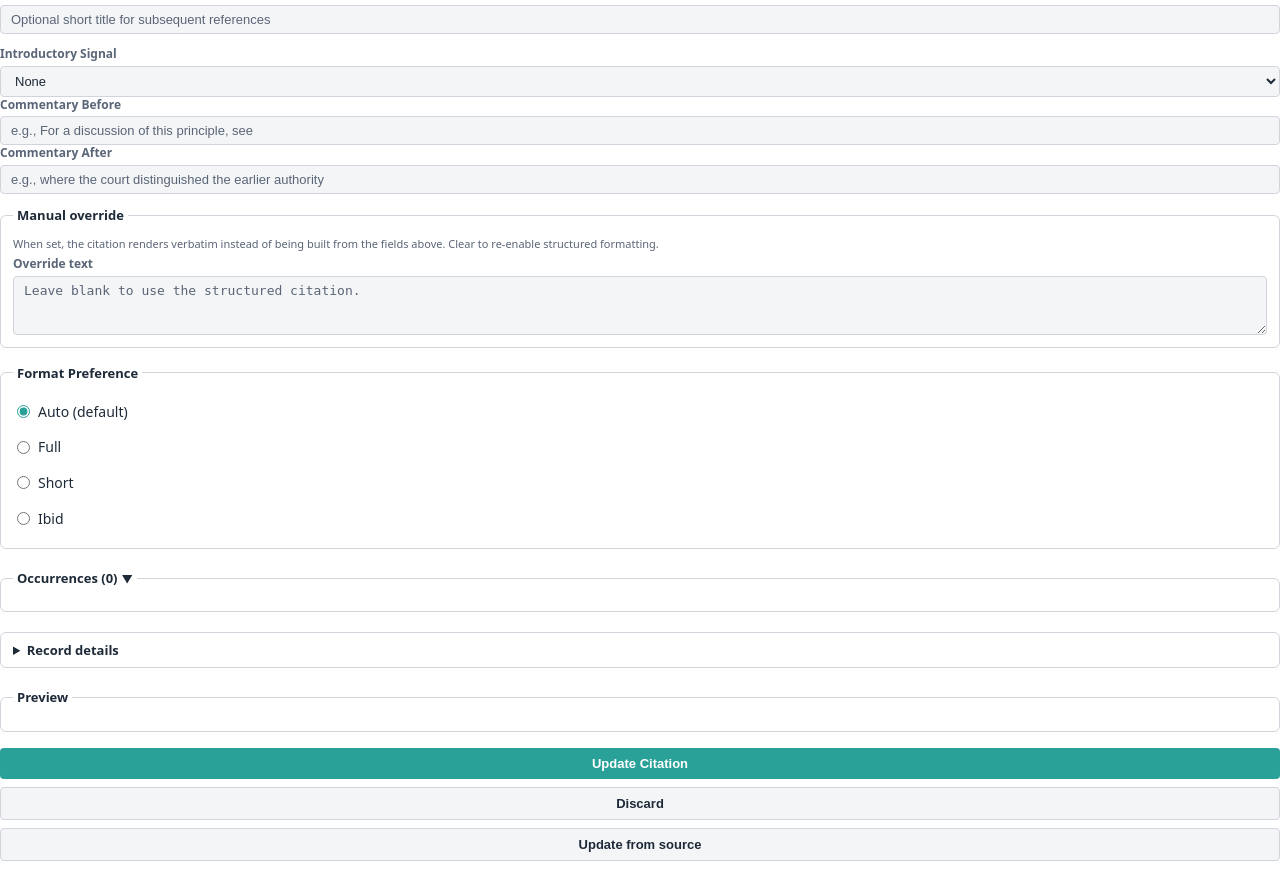
Test case: ENP-007: Update from source in the Edit view › opens the dialog and Apply updates the store, the form and the document
(page scrolled)
Click the button "Update from source": (640,844) [0, 828, 1279, 861]
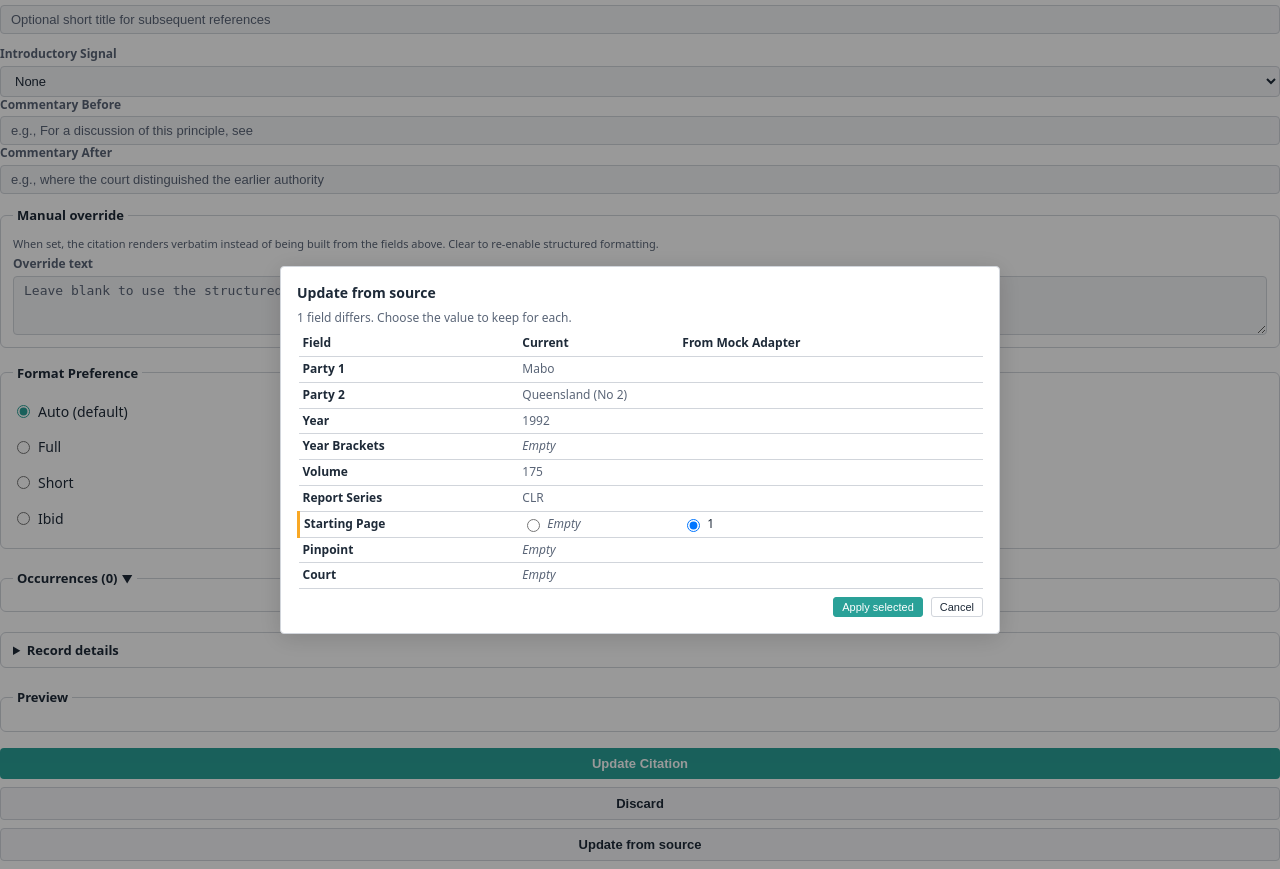
Check: the dialog "Update from source" is shown, box [280, 266, 1000, 634]
Check: the table named "Fields to merge" is shown, box [297, 331, 983, 589]
Click the button "Apply selected": (878,607) [833, 597, 923, 617]
(page scrolled)
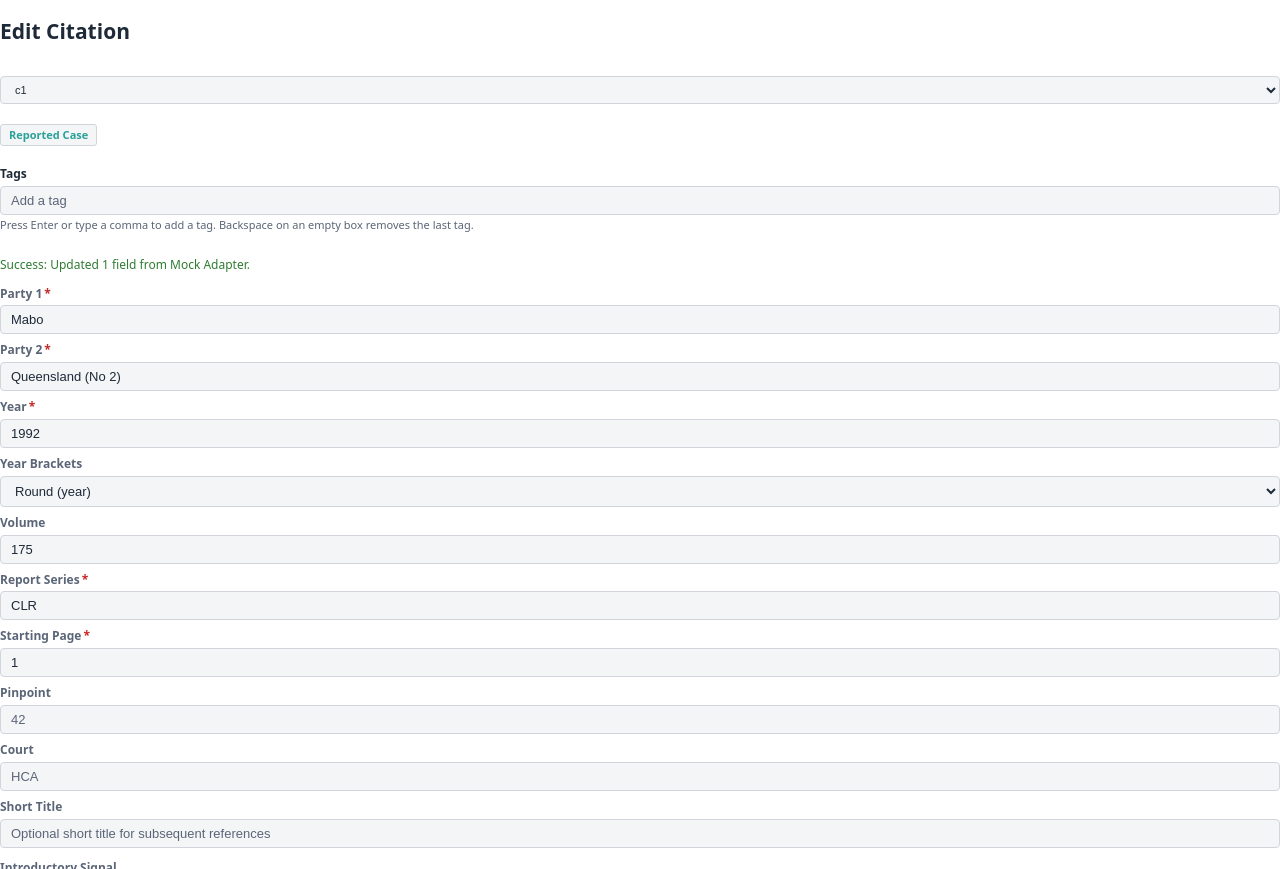
Check: the dialog is gone
Check: the field labelled "Starting Page*" holds "1", box [0, 648, 1279, 677]
Check: the text "Success: Updated 1 field from Mock Adapter." is shown, box [0, 256, 250, 273]
